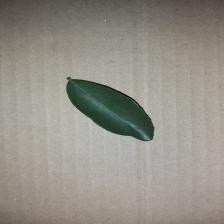healthy: (60, 80, 158, 140)
